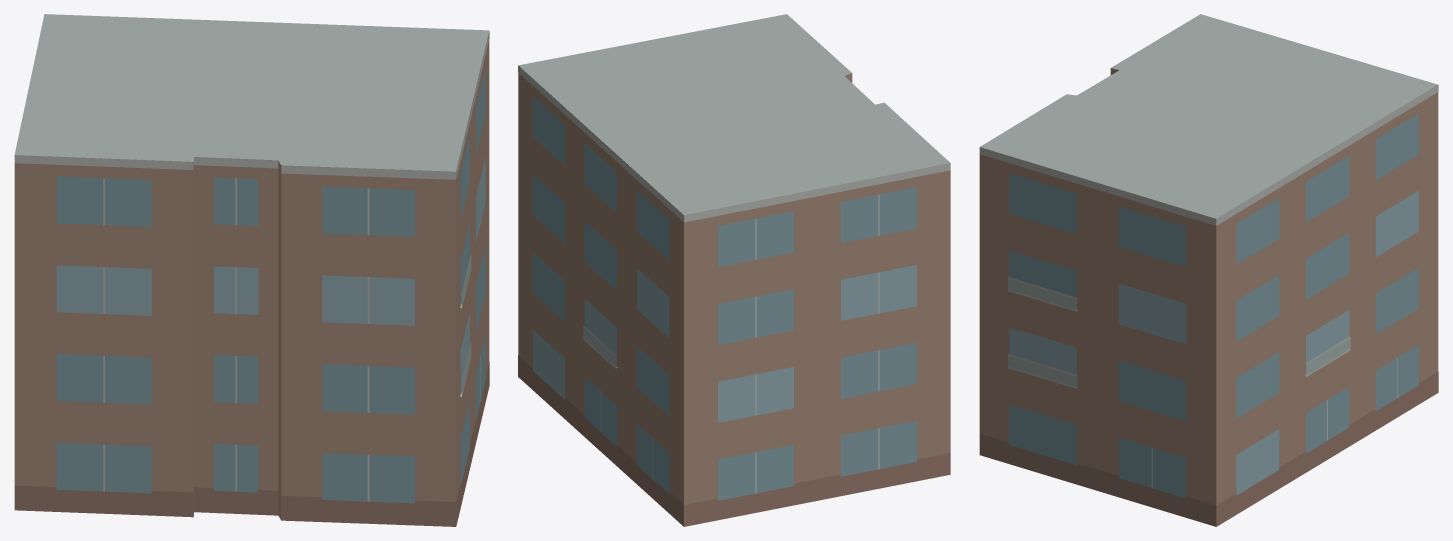
Rendered from survey-upis-32891953.glb.
3 renders of one model, left to right at view 1: azimuth 30°, elevation 25°; view 2: azimuth 150°, elevation 25°; view 3: azimuth 270°, elevation 25°, orthographic. The views are drawn at different scales.
Visible parts, largest first — view 1: survey-upis-32891953.tmp; view 2: survey-upis-32891953.tmp; view 3: survey-upis-32891953.tmp.
Part boxes in pixels (left/top/right/bottom): survey-upis-32891953.tmp: left=14, top=14, right=489, bottom=526; survey-upis-32891953.tmp: left=518, top=14, right=950, bottom=526; survey-upis-32891953.tmp: left=979, top=14, right=1438, bottom=526.
Bounding box in the file's own units: 15.13 × 10.6 × 14.32.
